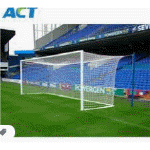goals: (17, 47, 114, 110)
